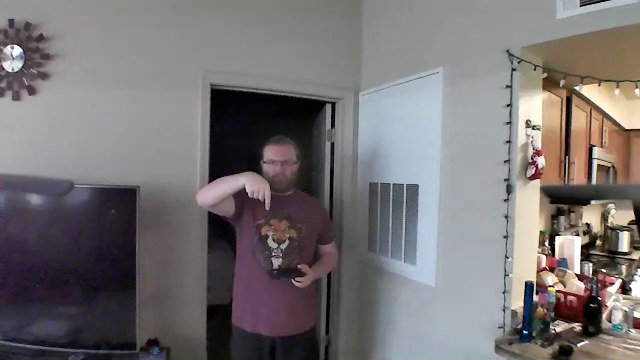down: (239, 169, 271, 216)
